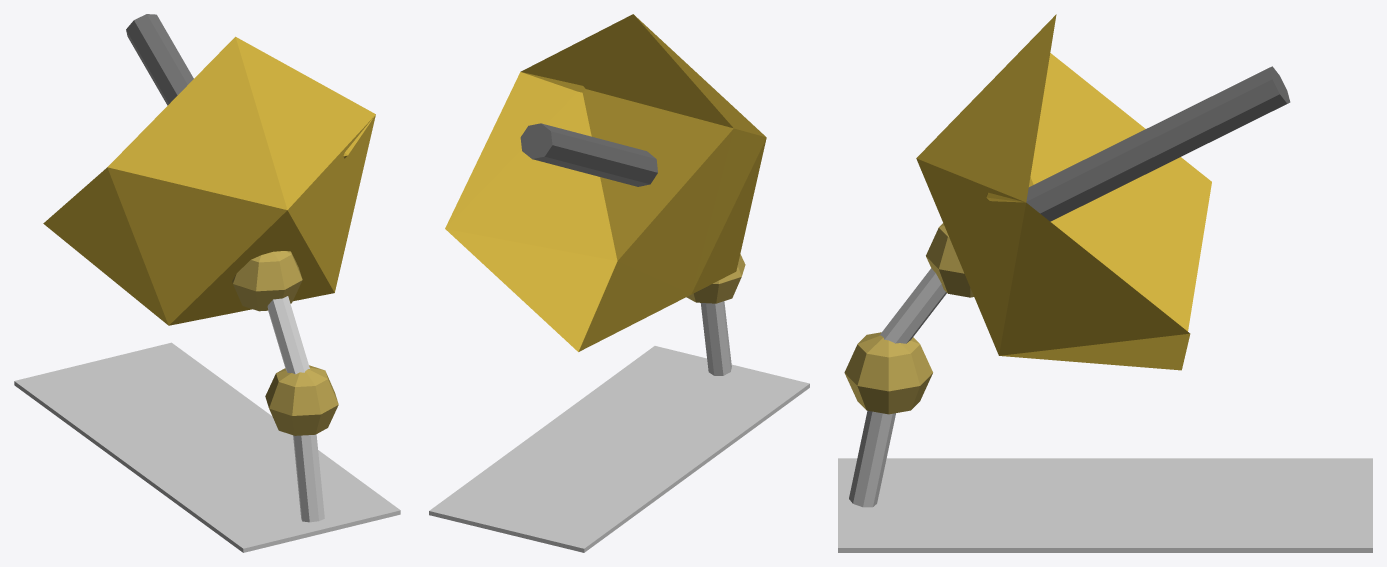
The model's file is TvAntenna.fbx.
3 renders of one model, left to right at view 1: azimuth 30°, elevation 25°; view 2: azimuth 150°, elevation 25°; view 3: azimuth 270°, elevation 25°, orthographic. The views are drawn at different scales.
Visible parts, largest first — view 1: Cylinder.001; view 2: Cylinder.001; view 3: Cylinder.001.
Boxes of the visible parts, <box> form: Cylinder.001: <box>14,14,400,552</box>; Cylinder.001: <box>429,14,809,552</box>; Cylinder.001: <box>838,14,1372,552</box>.
Size of the model in its own units: 390 by 599 by 583.
